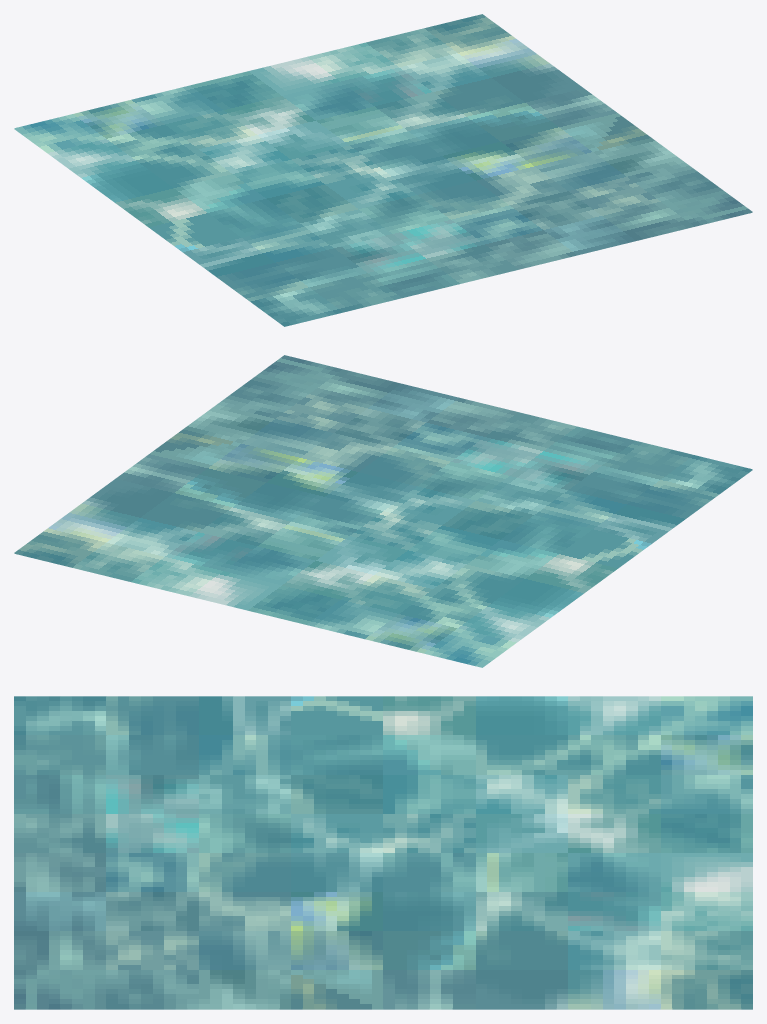
Rendered from propList.fbx.
The picture shows the model from 3 angles, top to bottom: view 1: azimuth 30°, elevation 25°; view 2: azimuth 150°, elevation 25°; view 3: azimuth 270°, elevation 25°; orthographic projection. The views are drawn at different scales.
Visible parts, largest first — view 1: aaplane_1 (×2); view 2: aaplane_1 (×2); view 3: aaplane_1 (×2).
Boxes of the visible parts, left/top/right/bottom form: aaplane_1 (×2): left=14, top=14, right=752, bottom=326; aaplane_1 (×2): left=14, top=355, right=752, bottom=667; aaplane_1 (×2): left=14, top=696, right=752, bottom=1009.
Bounding box in the file's own units: 8 × 0.01 × 8.
